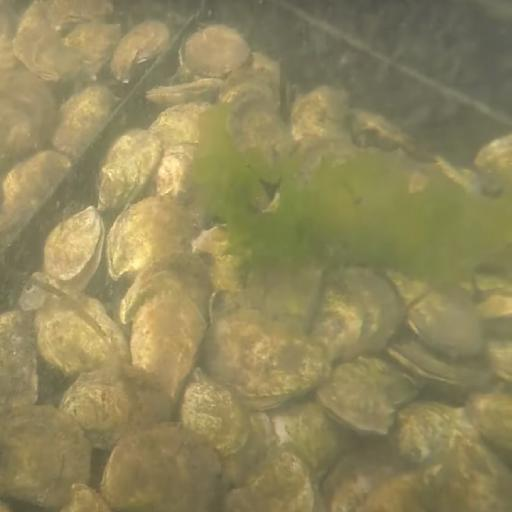Oyster-Closed: (203, 306, 331, 408), (102, 424, 222, 512), (58, 365, 176, 454), (1, 406, 93, 509), (132, 284, 209, 396), (32, 295, 129, 374), (323, 268, 403, 362), (362, 462, 509, 512), (224, 85, 298, 184), (109, 201, 202, 279), (182, 366, 251, 449), (220, 457, 315, 512), (99, 131, 163, 211), (1, 73, 56, 165), (409, 295, 482, 355), (310, 281, 364, 360), (17, 22, 82, 84), (194, 227, 250, 294), (1, 310, 38, 407), (55, 87, 111, 151), (399, 403, 459, 462), (115, 20, 173, 81), (353, 358, 425, 405), (7, 152, 67, 207), (145, 145, 199, 205), (292, 87, 350, 140), (146, 104, 213, 148), (66, 24, 120, 78), (465, 390, 512, 450), (478, 297, 512, 327)
Oyster-Open: (310, 365, 400, 438), (123, 252, 211, 323), (46, 207, 106, 292), (181, 24, 253, 80), (387, 340, 468, 384), (149, 76, 220, 103), (475, 140, 512, 172)
